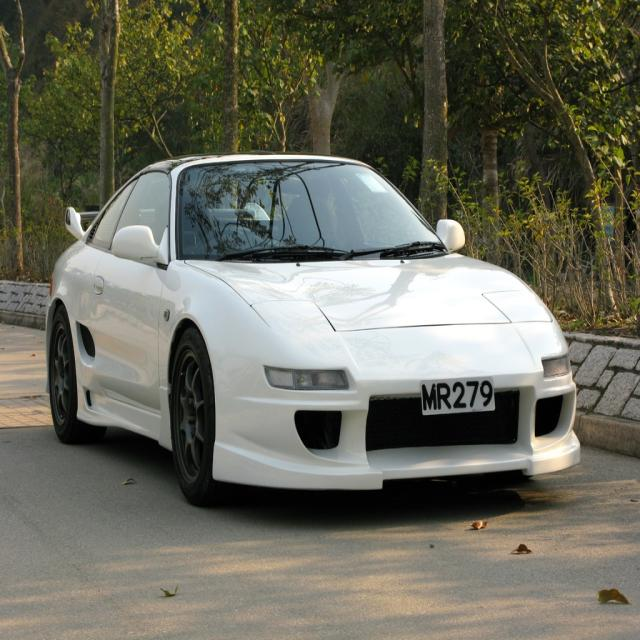car: (45, 153, 582, 504)
